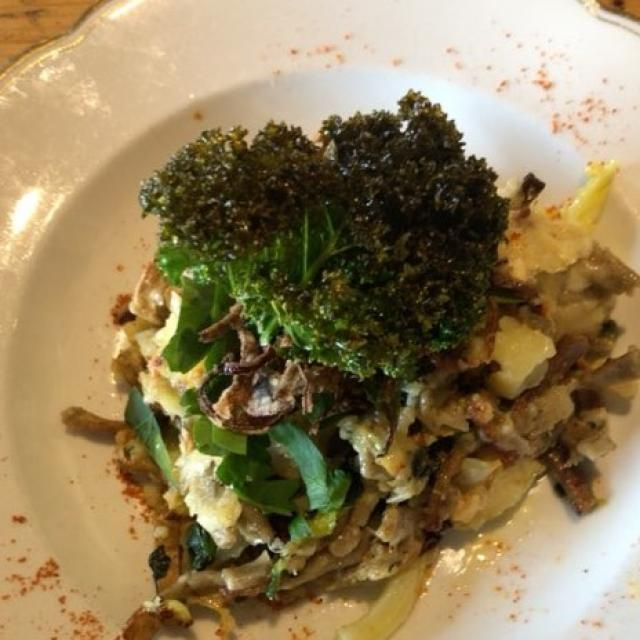mixed-vegetables: (116, 107, 495, 552)
